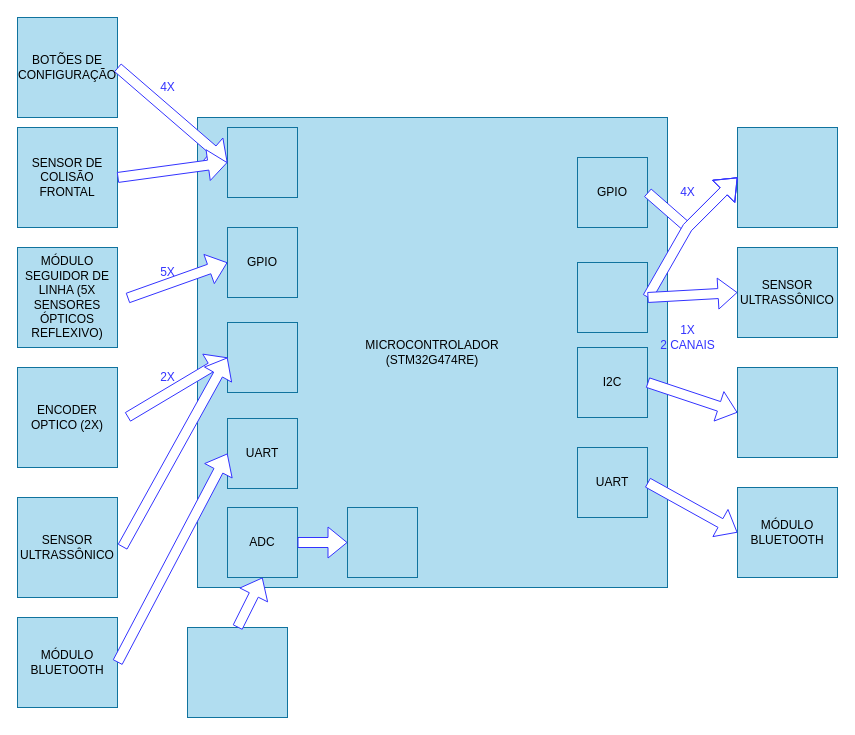
Some shapes in this 855 by 735 pixel diagram are drawn without their labels. The shapes that lost their labels are listed below. From the top down, each one's centre as x and y in pixels, then its label:
At point 262,162: "GPIO/EXTI".
At point 787,177: "PONTE H PARA CONTROLE DOS MOTORES".
At point 612,297: "TIM/PWM".
At point 262,357: "TIM/IC".
At point 787,412: "LCD".
At point 382,542: "DMA".
At point 237,672: "BATERIA".
